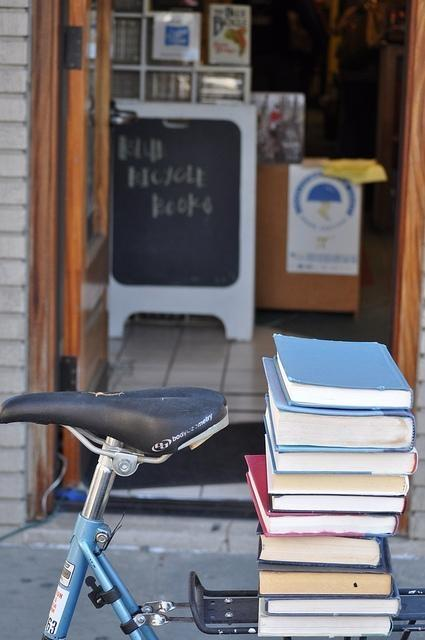bicycle: (0, 383, 425, 640)
